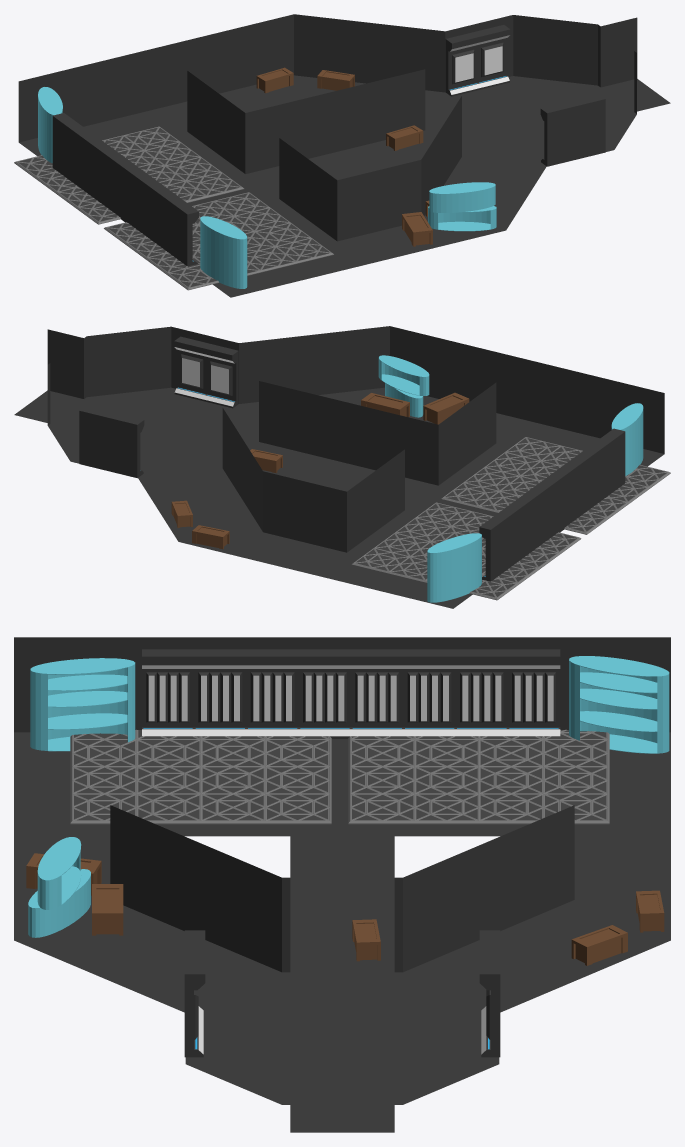
3 views of the same model, one above another, from view 1: azimuth 30°, elevation 25°; view 2: azimuth 150°, elevation 25°; view 3: azimuth 270°, elevation 25° (orthographic). The views are drawn at different scales.
Visible parts, largest first — view 1: LeftShip2.001-col, Plane.007-col.001, Plane.008-col, Shelving.001-col, Wall2.004-col, Wall2.001-col, ControlPanel.002-col.001, Wall2.003-col, Wall2.002-col, Wall1.001-col.001, ControlPanel.001-col.001, Shelving.002-col (+11 smaller); view 2: LeftShip2.001-col, Plane.007-col.001, Plane.008-col, Shelving.002-col, Wall2.001-col, Wall2.004-col, Wall2.002-col, Wall2.003-col, ControlPanel.002-col.001, Wall1.008-col.001, Shelving.001-col, Wall1.002-col.001 (+12 smaller); view 3: LeftShip2.001-col, Plane.008-col, Plane.007-col.001, Shelving.002-col, Shelving.001-col, Wall1.004-col.001, Wall1.002-col.001, Wall1.003-col.001, Wall1.005-col.001, Wall1.006-col.001, Wall1.007-col.001, Wall1.008-col.001 (+10 smaller).
Boxes of the visible parts, <box> form: LeftShip2.001-col: <box>18,14,670,297</box>; Plane.007-col.001: <box>104,192,333,290</box>; Plane.008-col: <box>14,126,244,224</box>; Shelving.001-col: <box>200,216,247,288</box>; Wall2.004-col: <box>540,101,576,166</box>; Wall2.001-col: <box>445,32,481,96</box>; ControlPanel.002-col.001: <box>429,182,495,212</box>; Wall2.003-col: <box>570,94,605,159</box>; Wall2.002-col: <box>475,25,510,89</box>; Wall1.001-col.001: <box>170,199,198,266</box>; ControlPanel.001-col.001: <box>428,206,496,231</box>; Shelving.002-col: <box>38,87,62,163</box>; LeftShip2.001-col: <box>14,326,664,608</box>; Plane.007-col.001: <box>441,437,670,534</box>; Plane.008-col: <box>351,502,581,600</box>; Shelving.002-col: <box>427,533,481,602</box>; Wall2.001-col: <box>108,413,144,478</box>; Wall2.004-col: <box>203,343,238,408</box>; Wall2.002-col: <box>79,406,114,470</box>; Wall2.003-col: <box>174,336,208,400</box>; ControlPanel.002-col.001: <box>378,355,429,395</box>; Wall1.008-col.001: <box>479,515,507,581</box>; Shelving.001-col: <box>611,403,643,475</box>; Wall1.002-col.001: <box>580,441,608,507</box>; LeftShip2.001-col: <box>14,637,670,1132</box>; Plane.008-col: <box>348,729,609,824</box>; Plane.007-col.001: <box>70,729,331,824</box>; Shelving.002-col: <box>569,656,669,753</box>; Shelving.001-col: <box>30,658,135,751</box>; Wall1.004-col.001: <box>298,649,350,738</box>; Wall1.002-col.001: <box>194,649,246,736</box>; Wall1.003-col.001: <box>246,649,298,736</box>; Wall1.005-col.001: <box>351,649,403,736</box>; Wall1.006-col.001: <box>403,649,455,736</box>; Wall1.007-col.001: <box>455,649,507,736</box>; Wall1.008-col.001: <box>508,649,560,736</box>.
Bounding box in the file's own units: 37.91 × 4.27 × 25.13.
